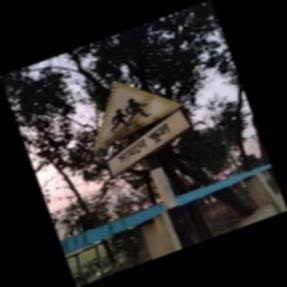School-in-front: (91, 78, 195, 180)
